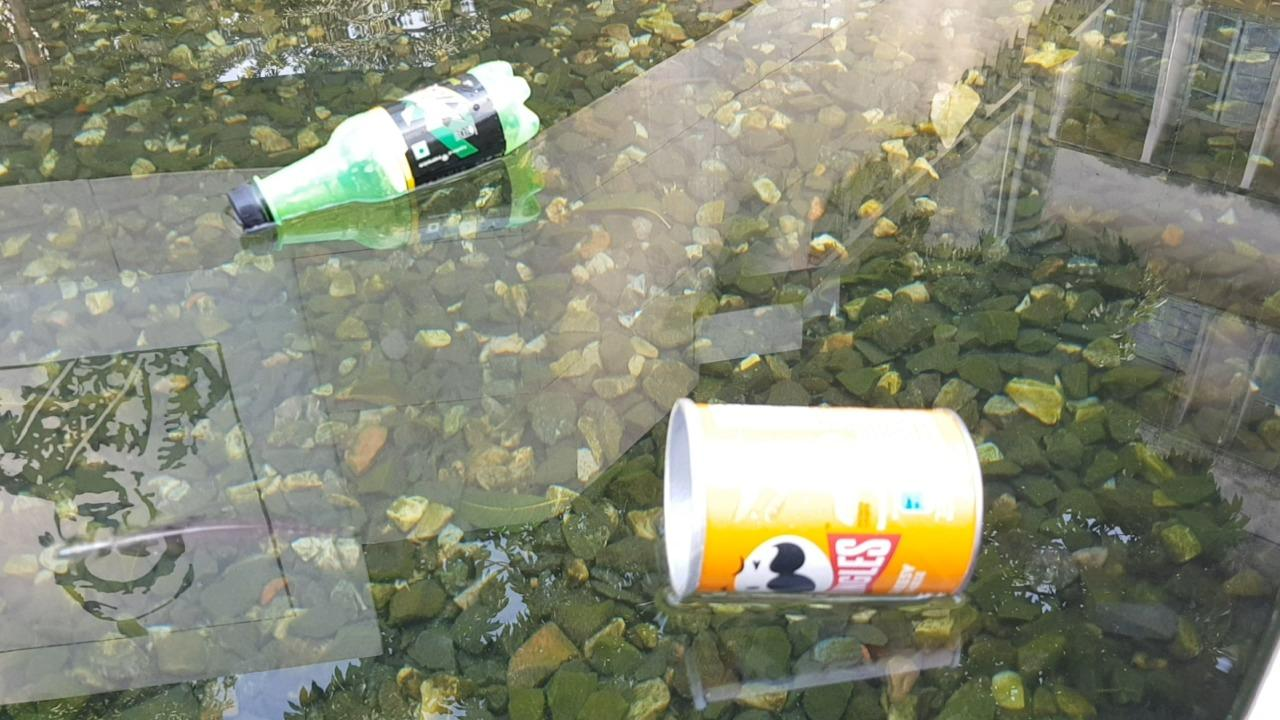trash_plastic: (672, 396, 984, 602), (231, 56, 539, 237)
